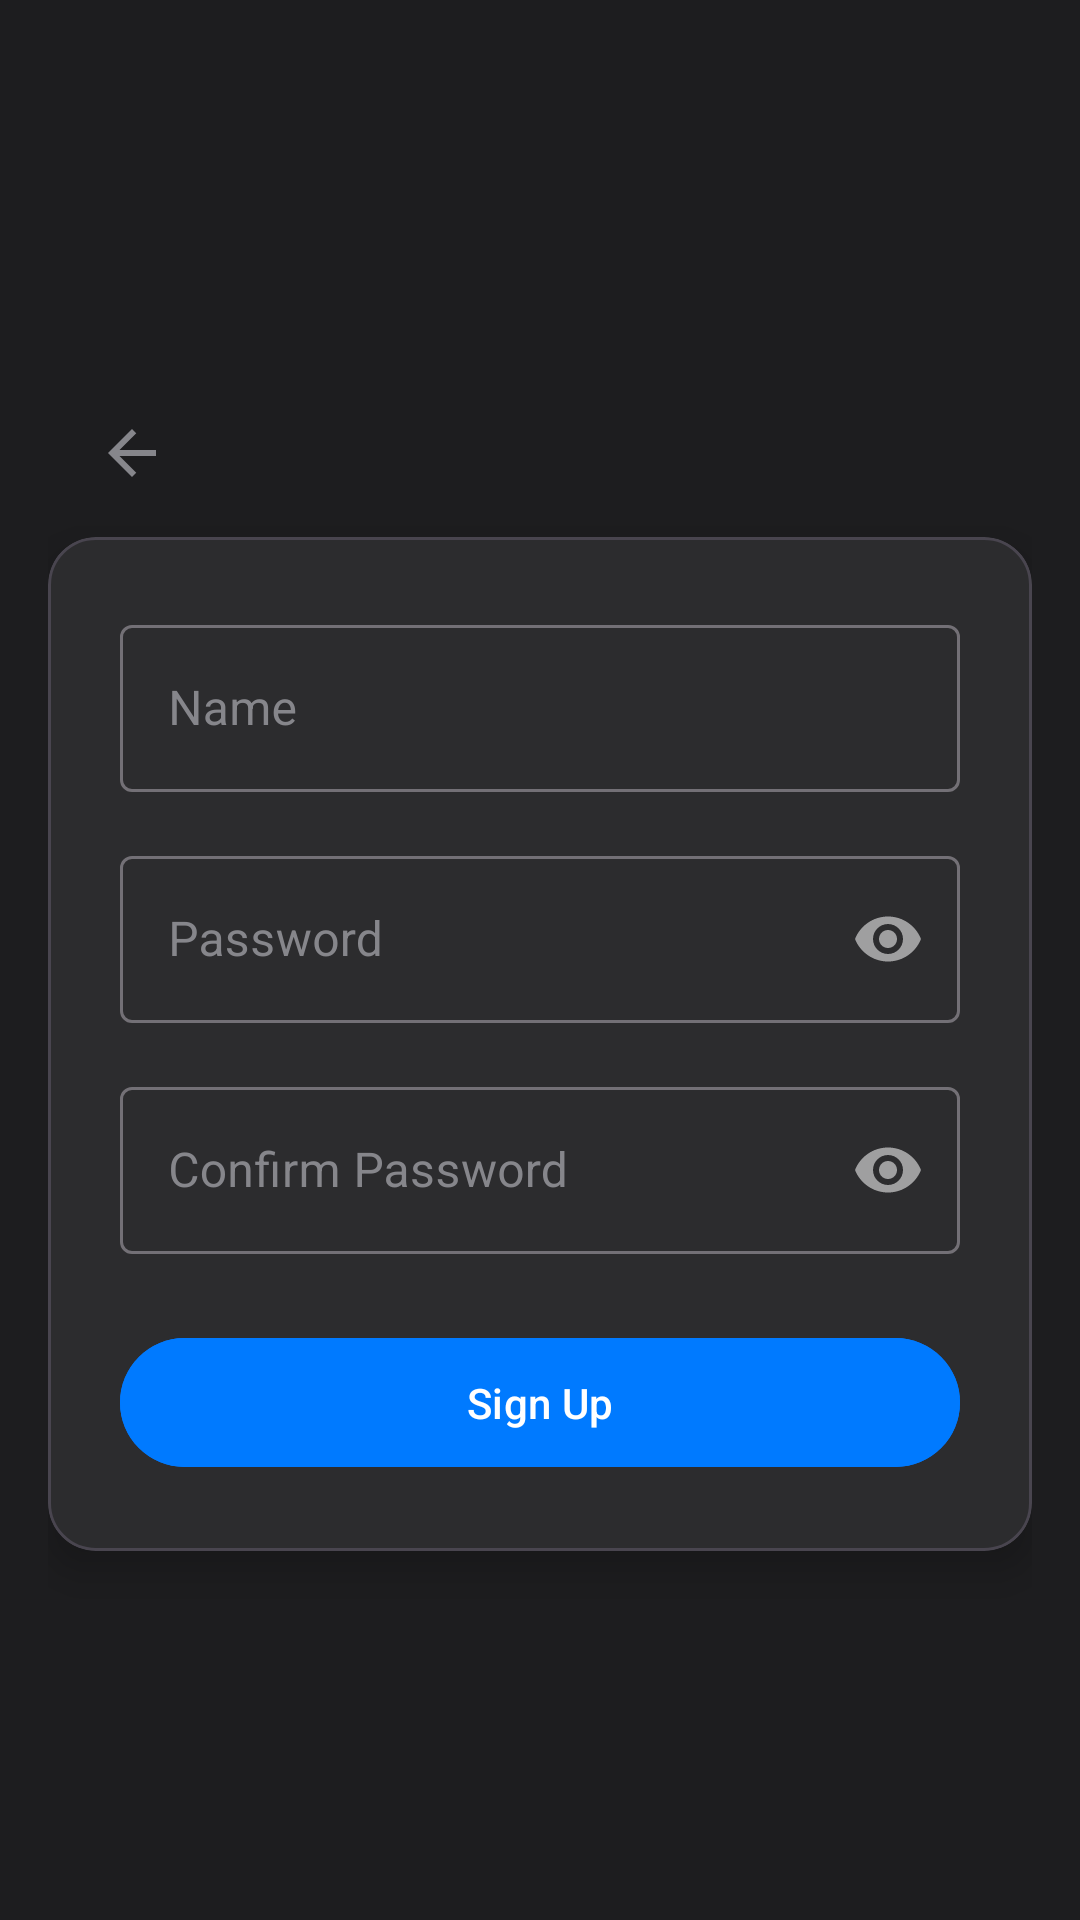

Screen size 1080px x 1920px. Icon name, then its box in pixels as (x1, y1, x2, y2):
arrow back: (108, 429, 156, 477)
